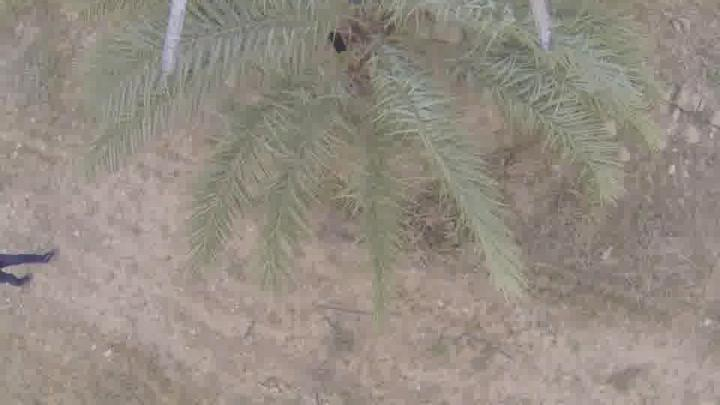Date-Palm-Crown: (205, 0, 539, 178)
